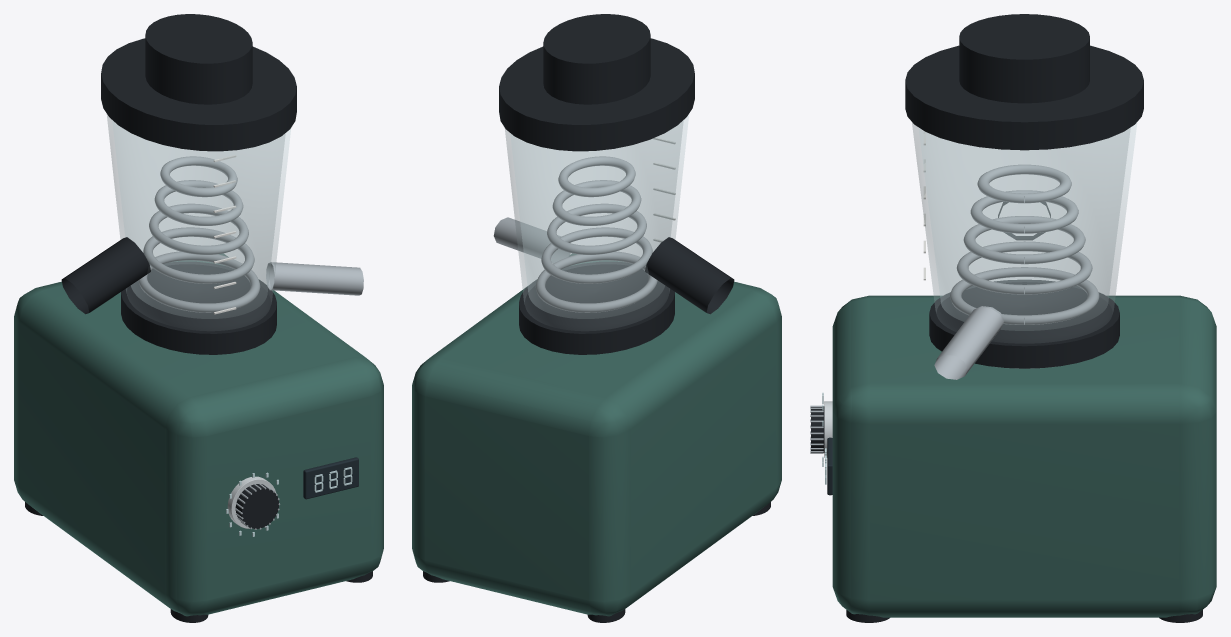
Rendered from slow-press-juicer.glb.
The picture shows the model from 3 angles, left to right: view 1: azimuth 30°, elevation 25°; view 2: azimuth 150°, elevation 25°; view 3: azimuth 270°, elevation 25°; orthographic projection. The views are drawn at different scales.
Parts seen in each view (by area): view 1: catalog_surface_RealismUV, catalog_surface_UVMap; view 2: catalog_surface_RealismUV, catalog_surface_UVMap; view 3: catalog_surface_RealismUV, catalog_surface_UVMap.
Boxes of the visible parts, x1,y1,x2,y2 form: catalog_surface_RealismUV: (14, 14, 383, 622); catalog_surface_UVMap: (107, 114, 358, 536); catalog_surface_RealismUV: (412, 14, 781, 622); catalog_surface_UVMap: (505, 114, 688, 330); catalog_surface_RealismUV: (810, 14, 1216, 622); catalog_surface_UVMap: (822, 122, 1136, 495).
Bounding box in the file's own units: 0.26 × 0.48 × 0.33.
